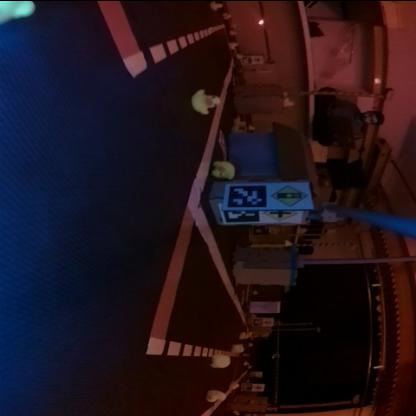Duckie: (193, 88, 220, 112), (212, 159, 236, 177), (207, 388, 227, 400), (212, 354, 232, 366), (283, 96, 294, 106), (232, 343, 244, 351), (228, 40, 239, 46)
Intersection sign: (270, 209, 298, 219)
QR code: (230, 183, 268, 206), (224, 208, 260, 222)
Signal sign: (272, 183, 308, 205)
